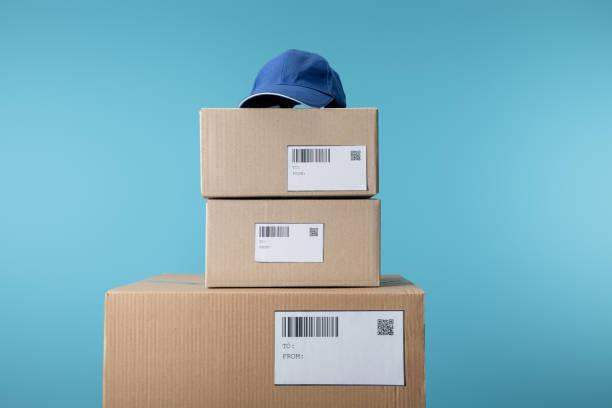qr_code: (377, 319, 394, 336)
